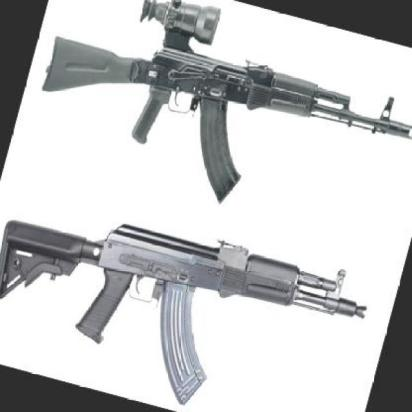Gun: (22, 0, 412, 256), (0, 170, 378, 412)
